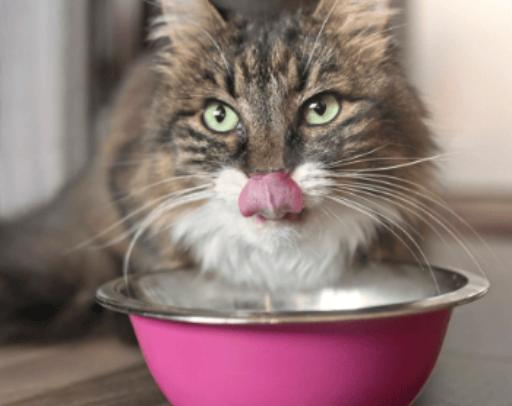cat_eating: (1, 0, 489, 405)
